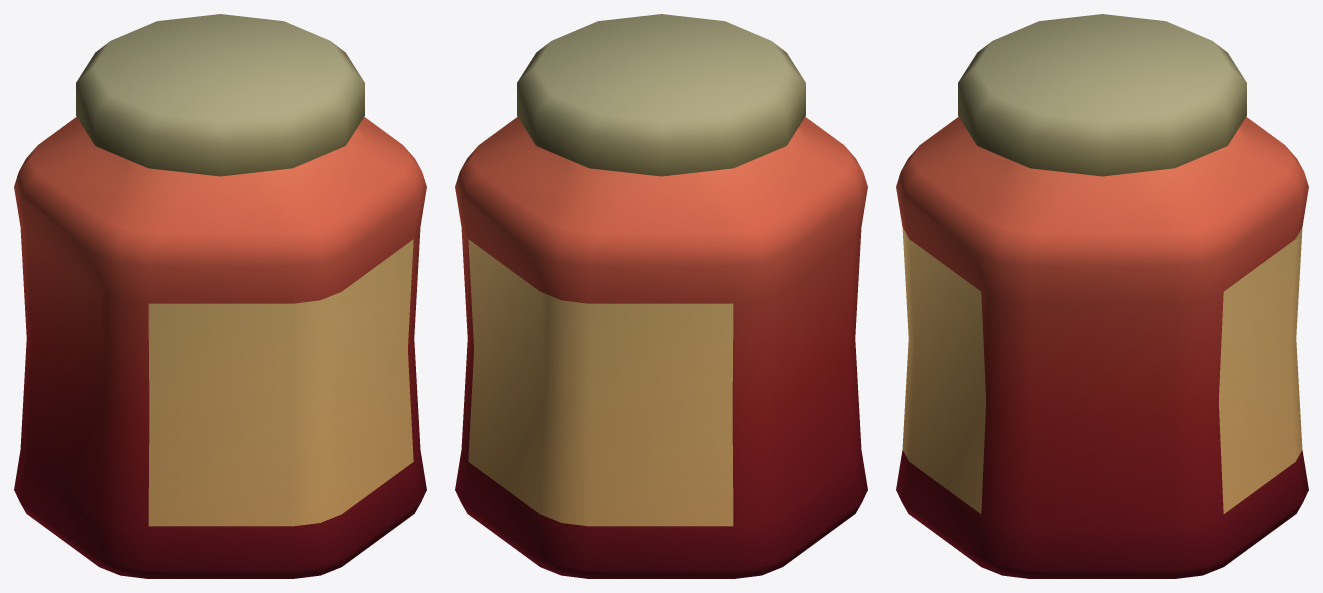
Rendered from Jam_Hex_01.glb.
The picture shows the model from 3 angles, left to right: view 1: azimuth 30°, elevation 25°; view 2: azimuth 150°, elevation 25°; view 3: azimuth 270°, elevation 25°; orthographic projection.
Visible parts, largest first — view 1: Jam_Hex_01; view 2: Jam_Hex_01; view 3: Jam_Hex_01.
Boxes of the visible parts, bbox=[...] form: Jam_Hex_01: bbox=[14, 14, 426, 578]; Jam_Hex_01: bbox=[455, 14, 867, 578]; Jam_Hex_01: bbox=[896, 14, 1308, 578].
Bounding box in the file's own units: 0.2713 × 0.3506 × 0.2986.
1 material, 1 textured.
